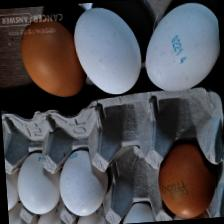egg: (139, 0, 222, 93), (69, 3, 142, 97), (16, 14, 86, 100), (154, 139, 218, 220), (54, 145, 110, 216), (13, 150, 62, 216)
